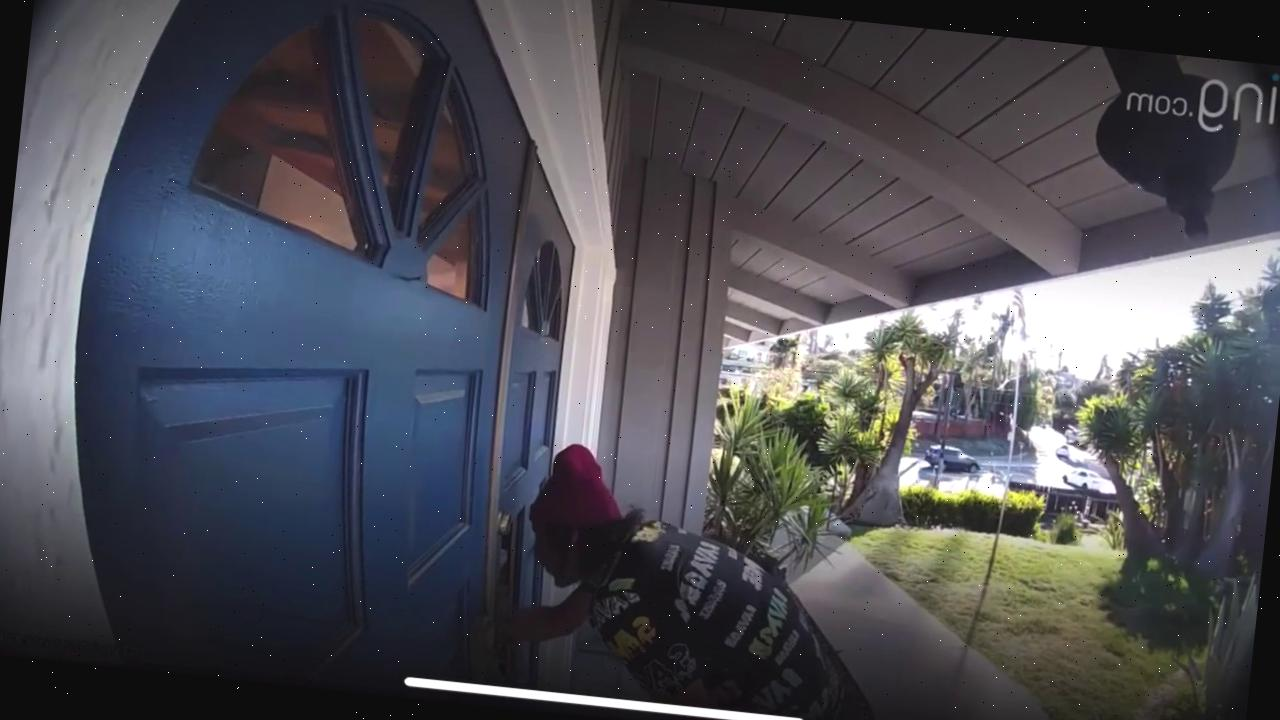suspicion: (459, 420, 904, 720)
